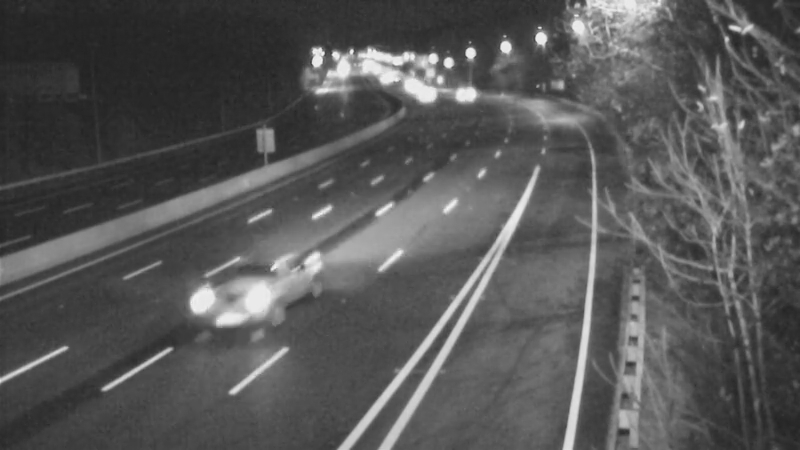vehicle: (400, 67, 450, 117), (435, 66, 485, 116), (199, 275, 249, 325)
